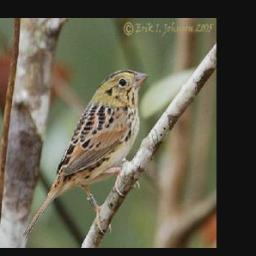Sparrow: (15, 66, 149, 241)
